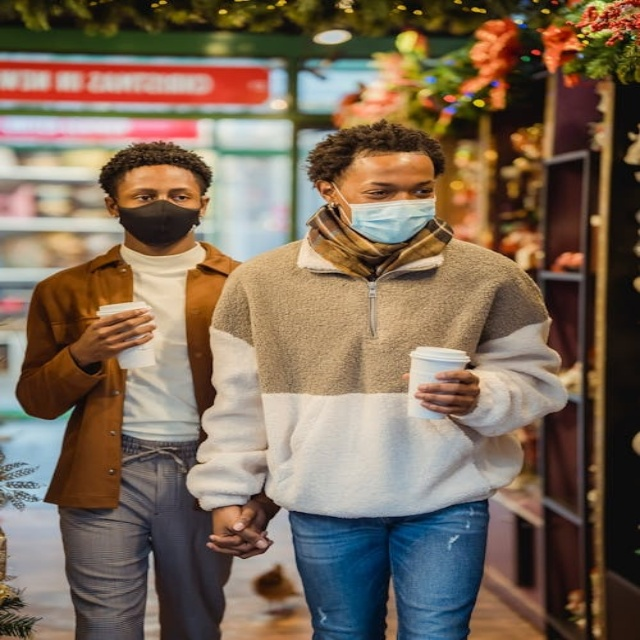Mascara: (330, 184, 438, 243), (115, 198, 201, 245)
Sin_gafas: (347, 175, 439, 198), (118, 182, 202, 200)
Sin_guantes: (76, 305, 170, 363), (208, 496, 278, 555), (410, 368, 483, 418)
